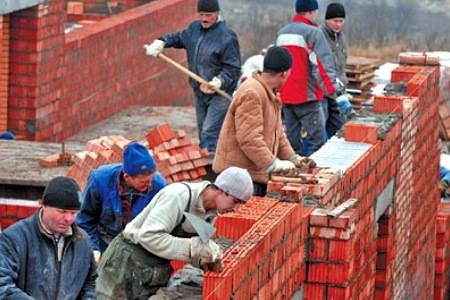blue: (122, 141, 155, 193)
none: (38, 173, 83, 237), (260, 44, 293, 88), (195, 1, 221, 31), (323, 1, 346, 32), (294, 1, 320, 24)
white: (212, 164, 256, 217)
